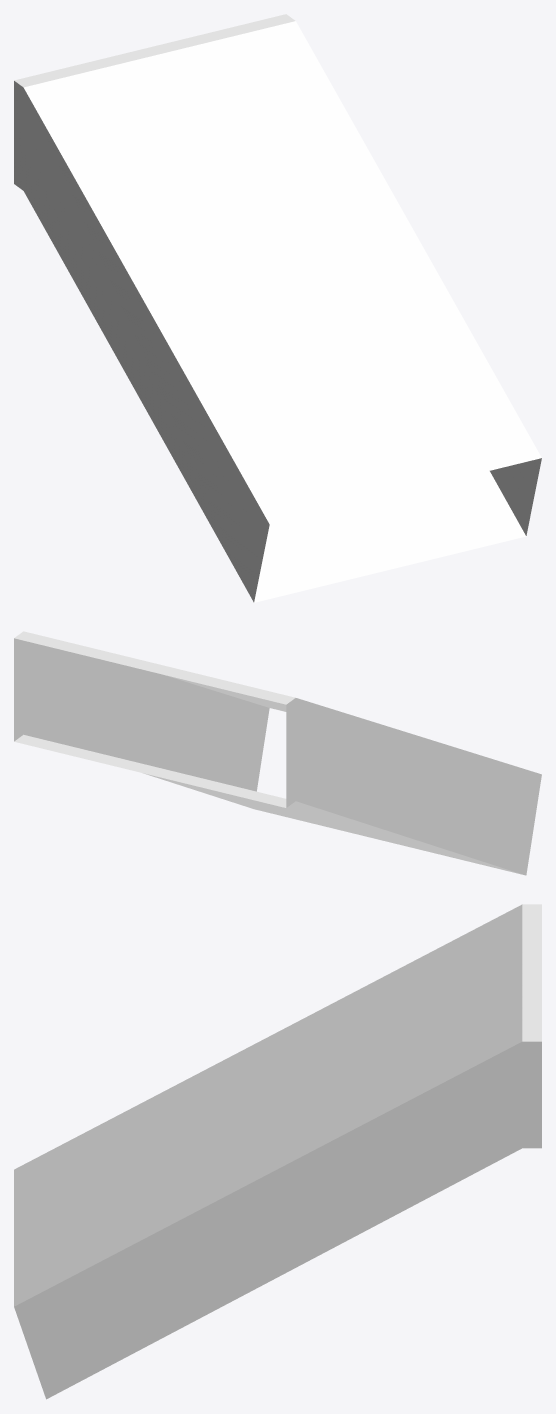
Rendered from Add_effect_01_02.fbx.
The picture shows the model from 3 angles, top to bottom: view 1: azimuth 30°, elevation 25°; view 2: azimuth 150°, elevation 25°; view 3: azimuth 270°, elevation 25°; orthographic projection. The views are drawn at different scales.
Parts seen in each view (by area): view 1: add_effect_01_02; view 2: add_effect_01_02; view 3: add_effect_01_02.
Boxes of the visible parts, x1,y1,x2,y2 form: add_effect_01_02: (14,14,541,602); add_effect_01_02: (14,631,541,875); add_effect_01_02: (14,904,541,1399).
Size of the model in its own units: 87.04 by 106 by 142.
